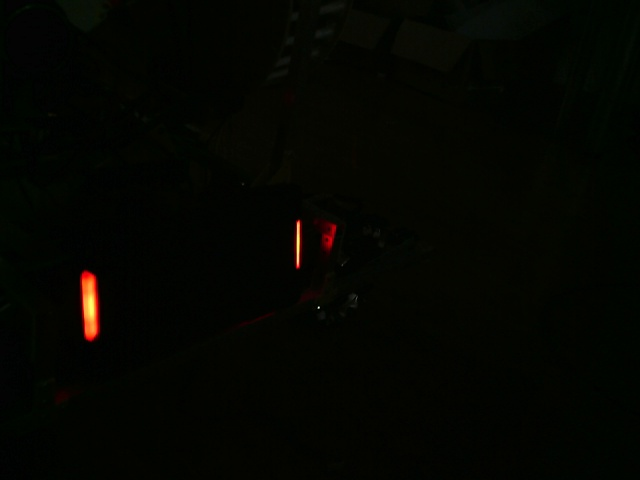lamp: (75, 267, 106, 343), (291, 217, 305, 272)
